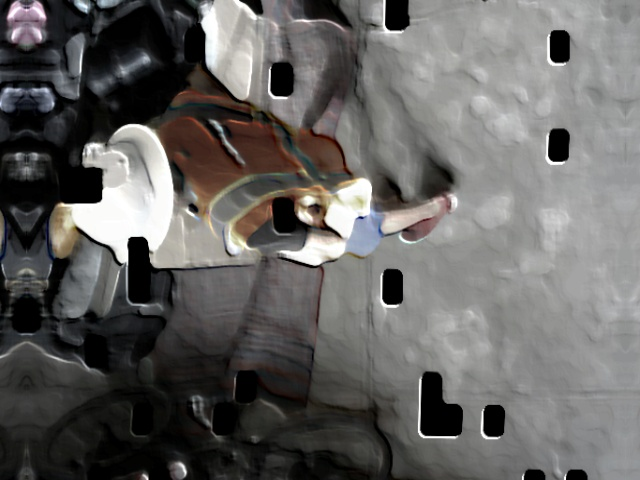one: (89, 148, 131, 186)
